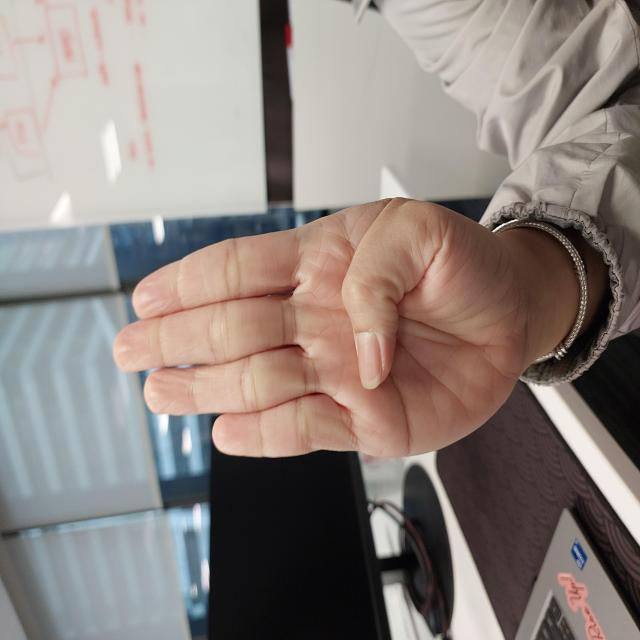B: (181, 114, 442, 526)
